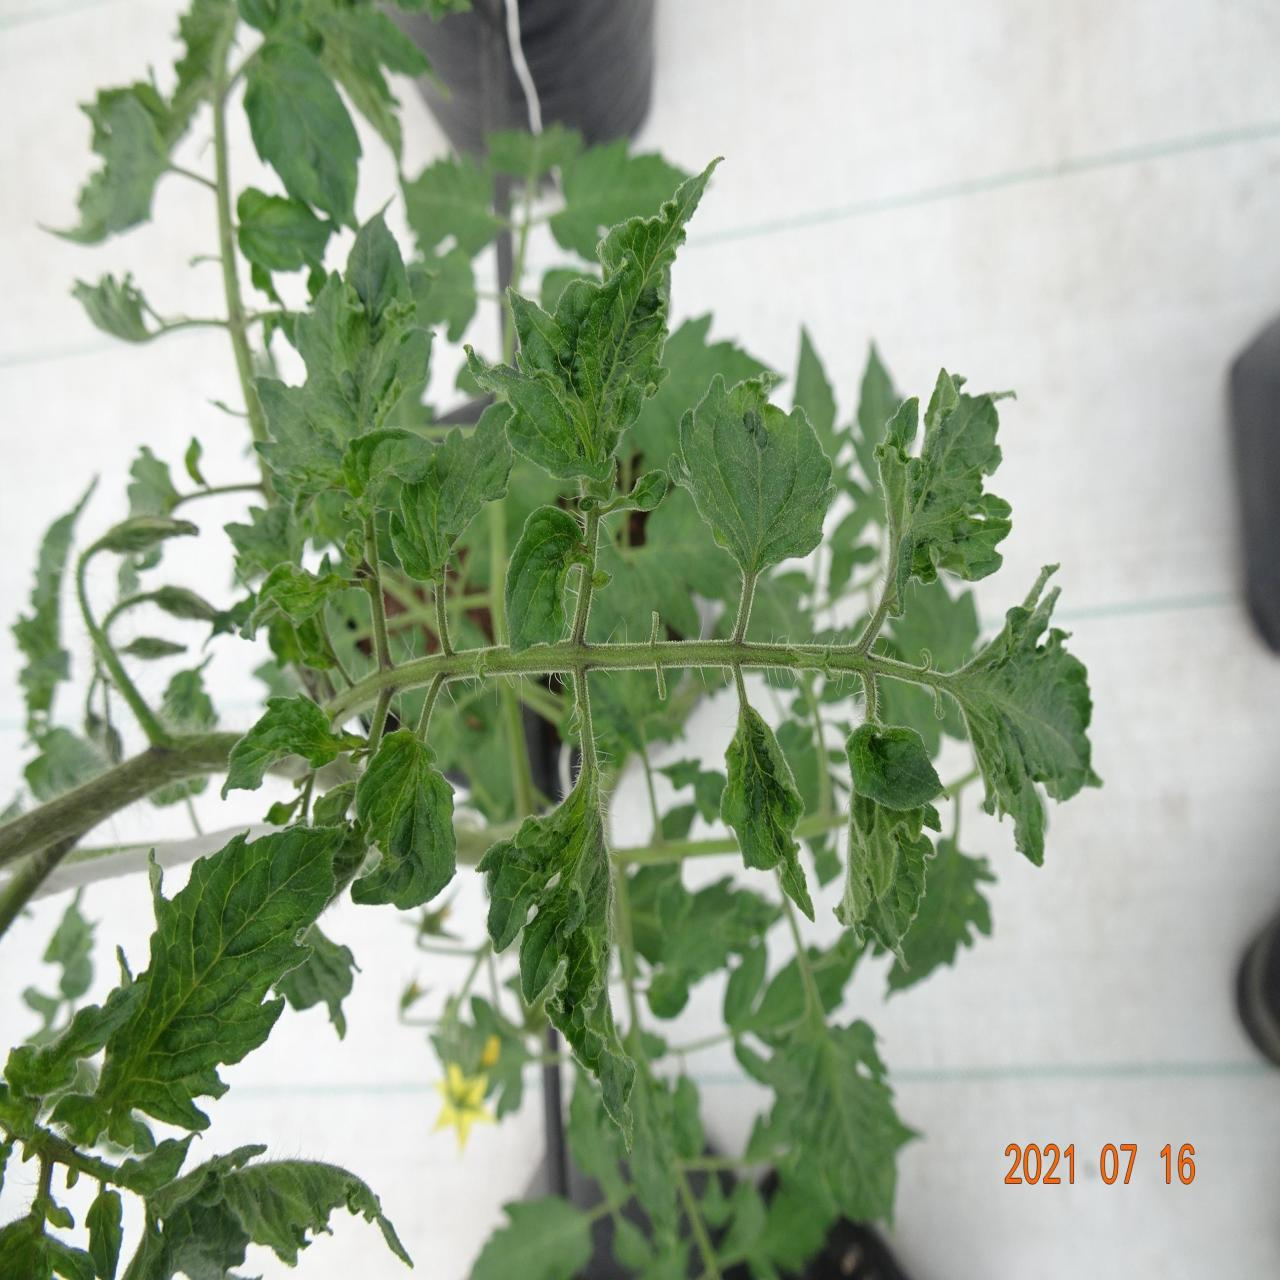T_L_R: (476, 161, 714, 497), (95, 828, 341, 1132), (478, 763, 636, 1144), (257, 215, 433, 490), (945, 565, 1104, 865), (670, 373, 835, 640), (61, 1, 234, 241), (124, 1148, 409, 1280), (877, 368, 1013, 615), (390, 402, 515, 654), (722, 668, 813, 920), (243, 38, 361, 225), (350, 729, 456, 910), (836, 791, 942, 966), (222, 694, 360, 797), (505, 505, 590, 651), (847, 722, 945, 811), (342, 427, 435, 517), (72, 272, 150, 341)
T_S_R: (334, 641, 791, 721)
